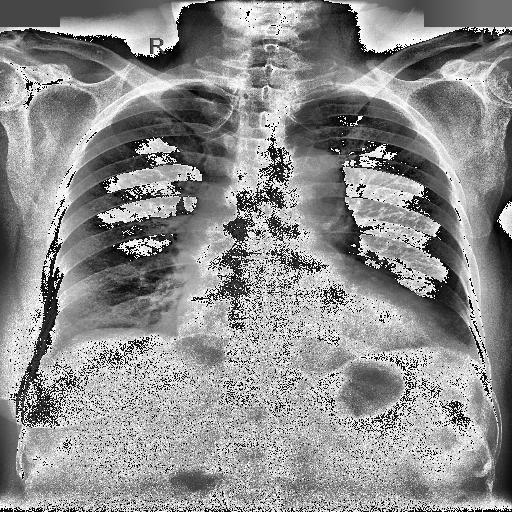0- Aortic enlargement: (254, 144, 348, 222), (260, 147, 348, 214), (272, 144, 346, 200)
3- Cardiomegaly: (175, 298, 443, 368), (176, 280, 444, 346), (174, 300, 442, 360)
